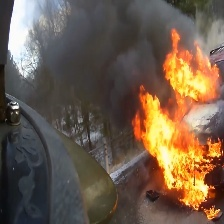fire: (132, 76, 224, 222), (162, 30, 222, 101)
